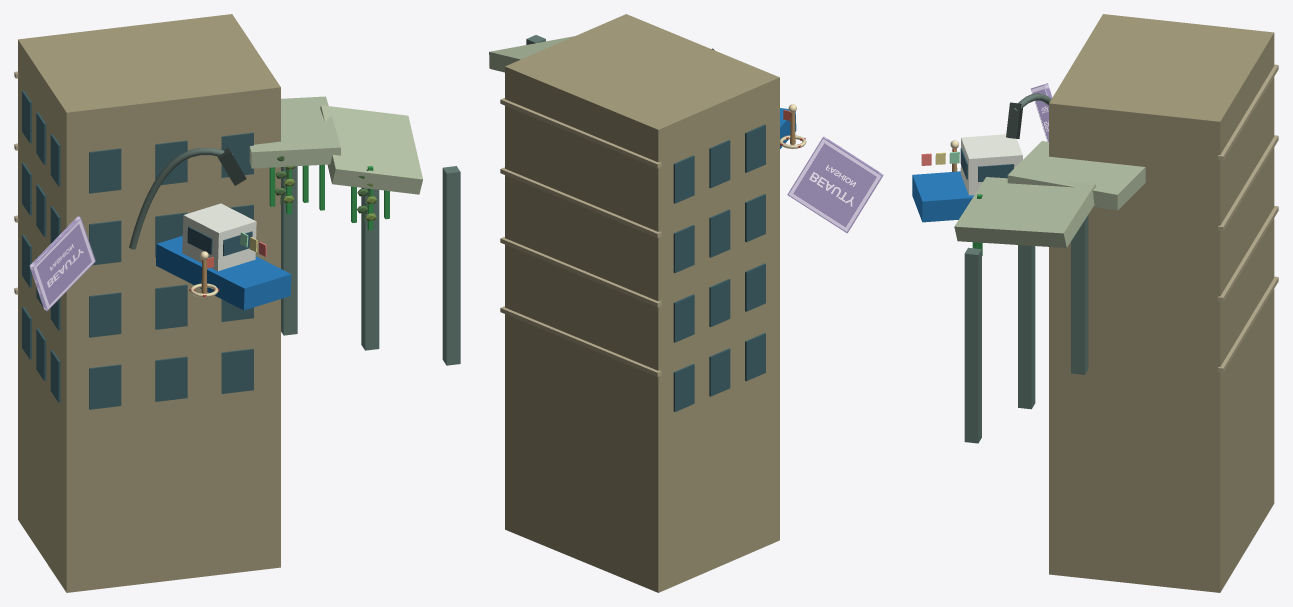
Rendered from zone4_far_shore.glb.
The picture shows the model from 3 angles, left to right: view 1: azimuth 30°, elevation 25°; view 2: azimuth 150°, elevation 25°; view 3: azimuth 270°, elevation 25°; orthographic projection. The views are drawn at different scales.
Visible parts, largest first — view 1: zone4_far_shore; view 2: zone4_far_shore; view 3: zone4_far_shore.
Part boxes in pixels (x1,y1,x2,y2): zone4_far_shore: (14, 14, 460, 592); zone4_far_shore: (489, 14, 883, 592); zone4_far_shore: (912, 14, 1278, 592).
Bounding box in the file's own units: 17.37 × 20 × 14.1.
Materials: 3 (1 with a texture image).
